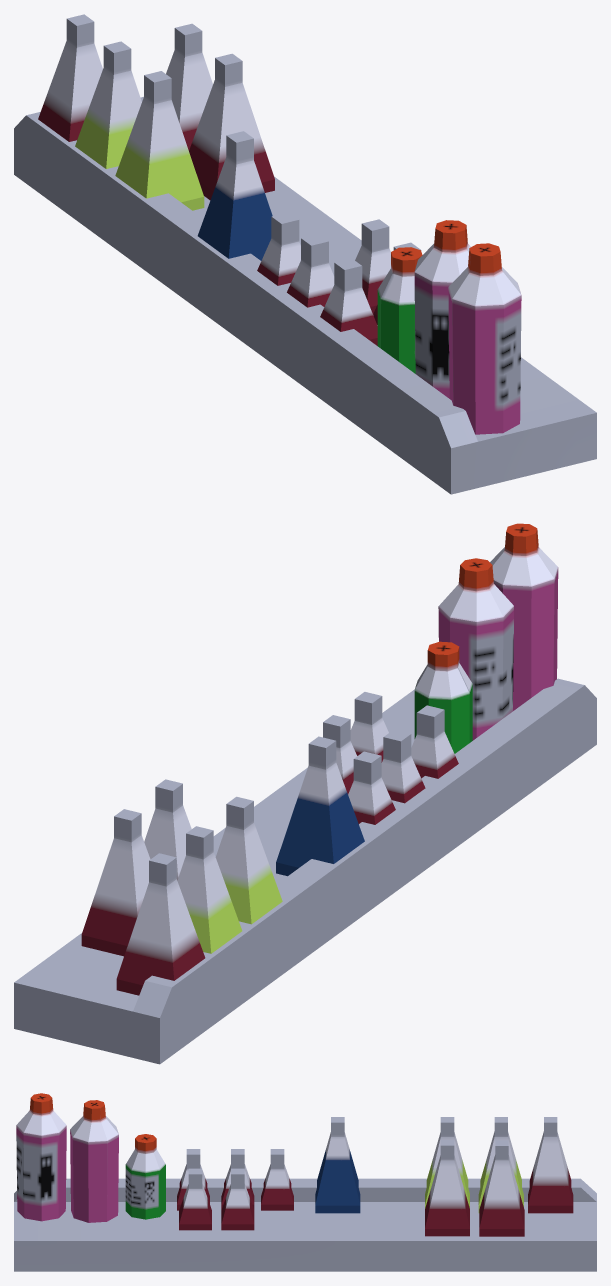
File: WallShelf2.fbx
3 views of the same model, one above another, from view 1: azimuth 30°, elevation 25°; view 2: azimuth 150°, elevation 25°; view 3: azimuth 270°, elevation 25° (orthographic). The views are drawn at different scales.
Visible parts, largest first — view 1: Куб.158; view 2: Куб.158; view 3: Куб.158.
Part boxes in pixels (x1=…): Куб.158: x1=14, y1=14, x2=596, y2=494; Куб.158: x1=14, y1=523, x2=596, y2=1064; Куб.158: x1=14, y1=1093, x2=596, y2=1271.
Size of the model in its own units: 38.55 by 54.6 by 200.
